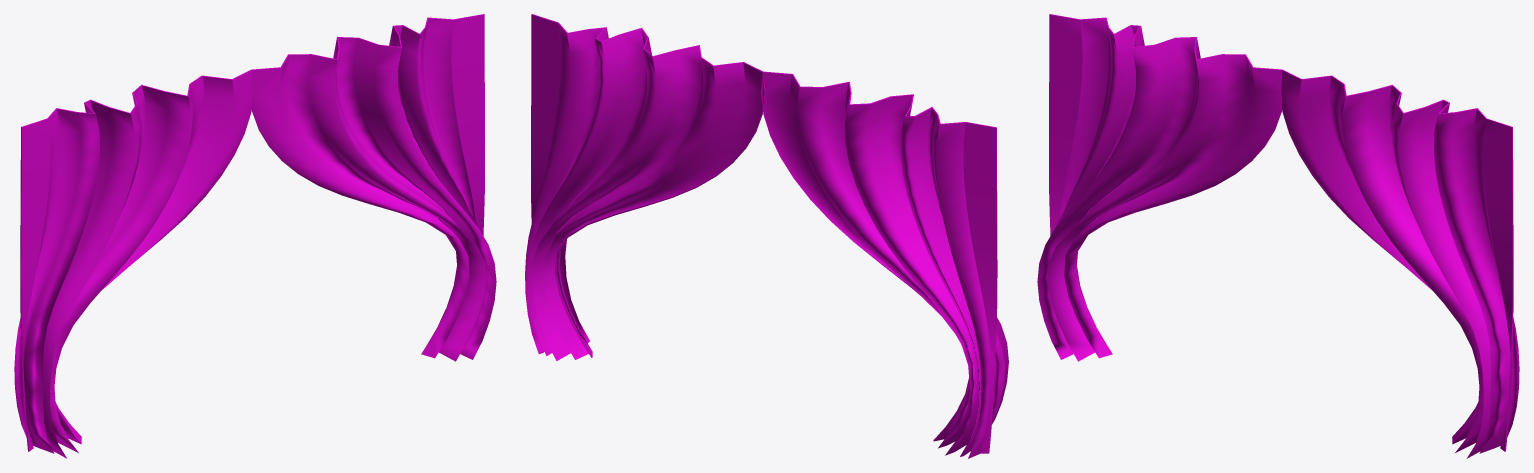
The model's file is barbue cortinas.fbx.
3 renders of one model, left to right at view 1: azimuth 30°, elevation 25°; view 2: azimuth 150°, elevation 25°; view 3: azimuth 330°, elevation 25°, orthographic.
Visible parts, largest first — view 1: nurbsToPoly1, nurbsToPoly3; view 2: nurbsToPoly1, nurbsToPoly3; view 3: nurbsToPoly3, nurbsToPoly1.
Part boxes in pixels (left/top/right/bottom): nurbsToPoly1: left=251, top=14, right=496, bottom=361; nurbsToPoly3: left=14, top=69, right=252, bottom=458; nurbsToPoly1: left=525, top=14, right=765, bottom=360; nurbsToPoly3: left=760, top=71, right=1008, bottom=458; nurbsToPoly3: left=1037, top=14, right=1282, bottom=361; nurbsToPoly1: left=1281, top=69, right=1519, bottom=458.
Size of the model in its own units: 391 by 264 by 49.73.
